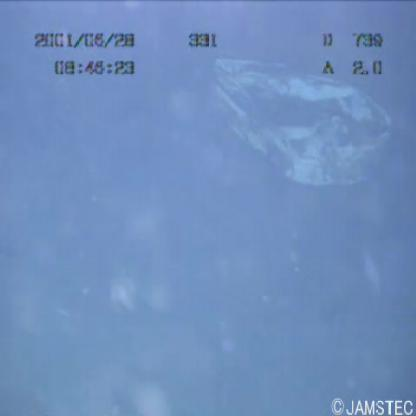Rác: (199, 50, 395, 192)
